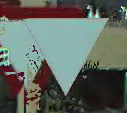Give way: (1, 2, 108, 102)
